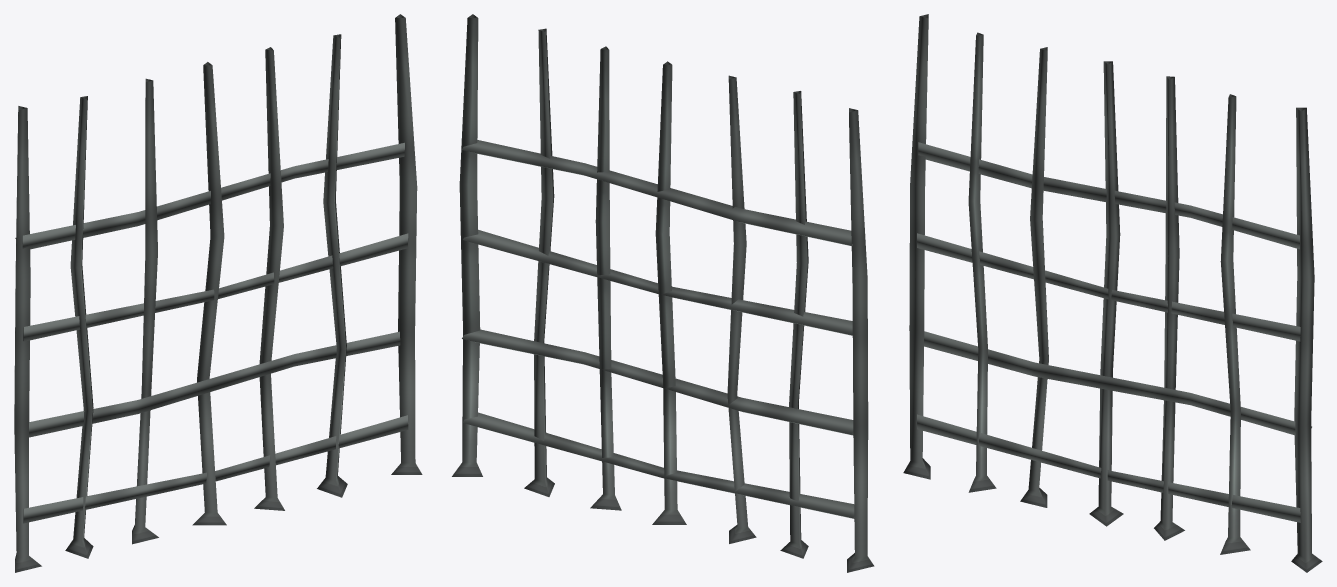
The model's file is Dg_01_bars_001.FBX.
3 renders of one model, left to right at view 1: azimuth 30°, elevation 25°; view 2: azimuth 150°, elevation 25°; view 3: azimuth 330°, elevation 25°, orthographic.
Parts seen in each view (by area): view 1: Dg_01_bars_001; view 2: Dg_01_bars_001; view 3: Dg_01_bars_001.
Part boxes in pixels (<box>): Dg_01_bars_001: <box>14,14,422,572</box>; Dg_01_bars_001: <box>452,14,874,572</box>; Dg_01_bars_001: <box>903,14,1322,572</box>.
Bounding box in the file's own units: 3.65 × 3.91 × 0.2984.
